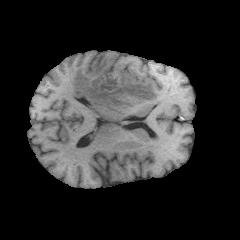glioma: (72, 61, 158, 113)
